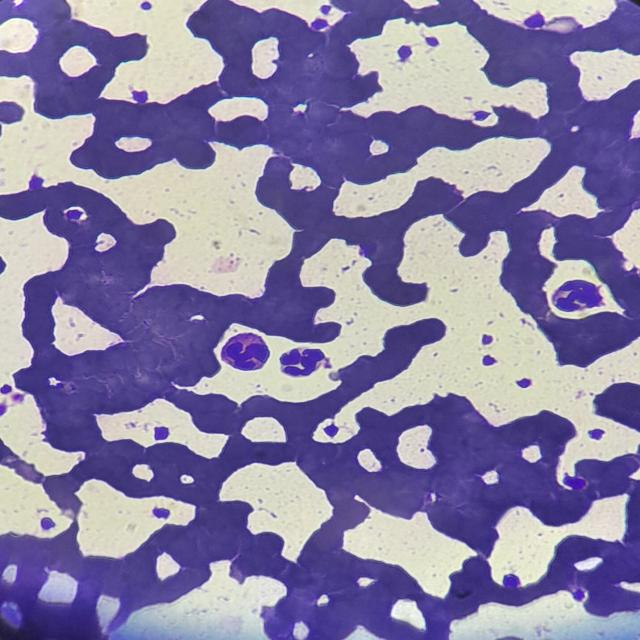Neutrofilo: (222, 332, 270, 371), (553, 281, 606, 312), (283, 347, 331, 377)
